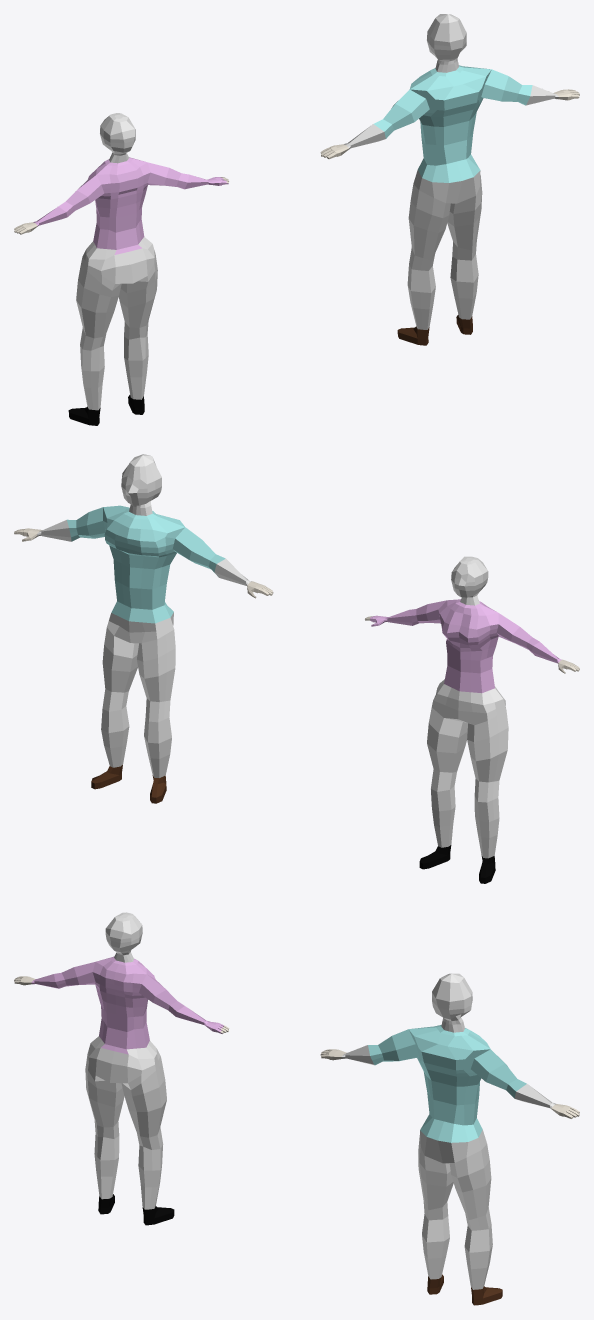
Rendered from NPCPack (1).fbx.
3 views of the same model, one above another, from view 1: azimuth 30°, elevation 25°; view 2: azimuth 150°, elevation 25°; view 3: azimuth 330°, elevation 25° (orthographic).
Visible parts, largest first — view 1: NPC_Male, NPC_Female; view 2: NPC_Male, NPC_Female; view 3: NPC_Male, NPC_Female.
Part boxes in pixels (box(x1,y1,x2,y2)): NPC_Male: box(320, 14, 579, 345); NPC_Female: box(14, 113, 228, 425); NPC_Male: box(14, 454, 273, 803); NPC_Female: box(365, 556, 579, 883); NPC_Male: box(320, 973, 579, 1305); NPC_Female: box(14, 912, 228, 1225).
Bounding box in the file's own units: 920 × 510 × 93.18.
